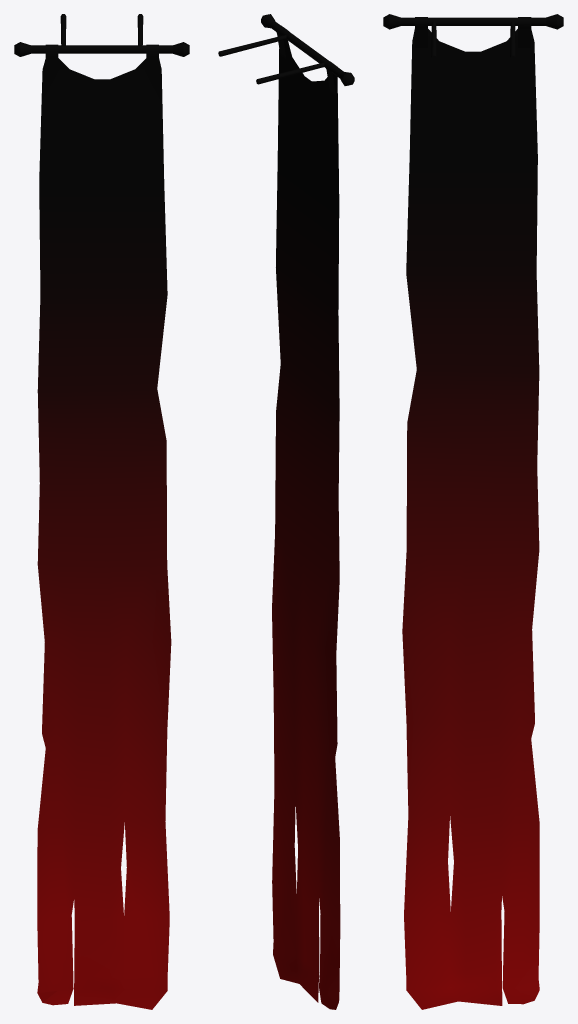
File: TFD_Cloth_07C.fbx
The picture shows the model from 3 angles, left to right: view 1: azimuth 90°, elevation 25°; view 2: azimuth 210°, elevation 25°; view 3: azimuth 270°, elevation 25°; orthographic projection. The views are drawn at different scales.
Parts seen in each view (by area): view 1: TFD_Cloth_07C_LOD1; view 2: TFD_Cloth_07C_LOD1; view 3: TFD_Cloth_07C_LOD1.
Boxes of the visible parts, x1,y1,x2,y2 form: TFD_Cloth_07C_LOD1: (14,14,189,1009); TFD_Cloth_07C_LOD1: (218,14,354,1009); TFD_Cloth_07C_LOD1: (383,14,563,1009).
Size of the model in its own units: 109 by 1305 by 215.
